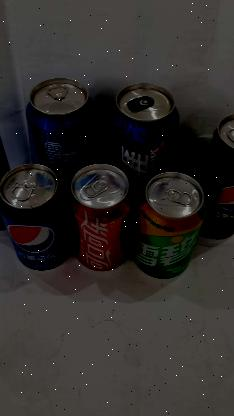Can: (110, 83, 179, 208), (133, 172, 206, 279), (26, 78, 97, 188), (0, 164, 72, 271), (67, 164, 133, 271), (201, 115, 234, 239)
